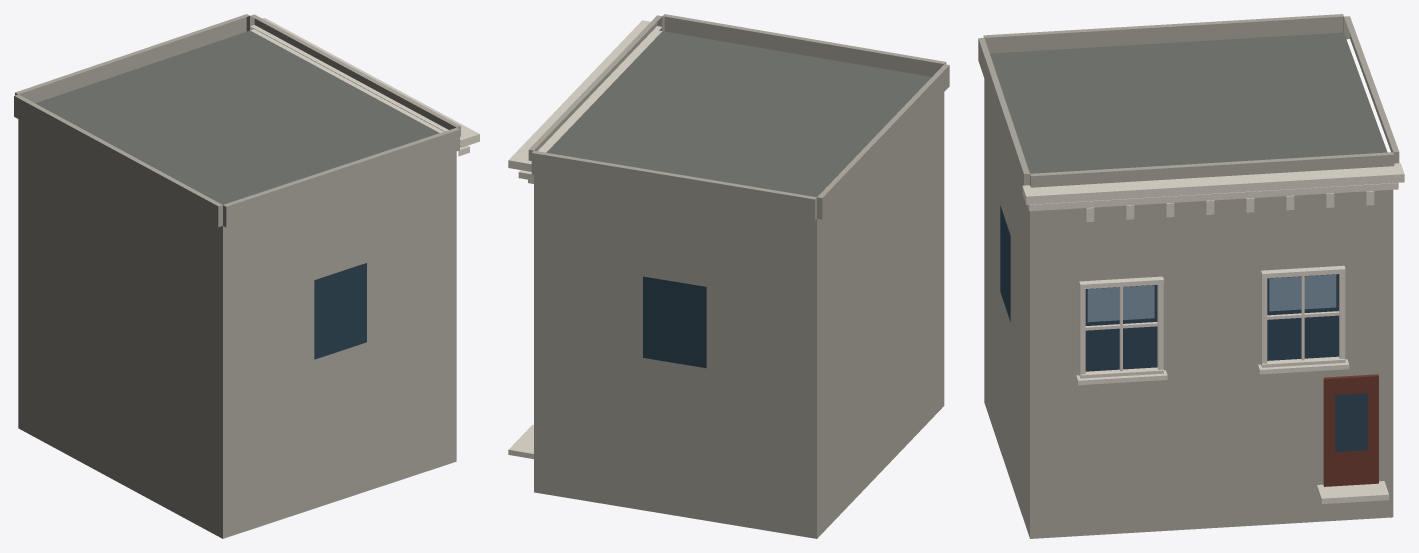
3 views of the same model, side by side, from view 1: azimuth 30°, elevation 25°; view 2: azimuth 150°, elevation 25°; view 3: azimuth 270°, elevation 25° (orthographic). The views are drawn at different scales.
Parts seen in each view (by area): view 1: Footprint 0 / surface 2, Footprint 0 / surface 1, Facade bay volumes, Inset glazing, Cornices and window frames; view 2: Footprint 0 / surface 2, Footprint 0 / surface 1, Facade bay volumes, Inset glazing, Cornices and window frames; view 3: Footprint 0 / surface 2, Footprint 0 / surface 1, Cornices and window frames, Facade bay volumes, Inset glazing, Sky reflection panels, Storefronts and doors.
Boxes of the visible parts, x1,y1,x2,y2 form: Footprint 0 / surface 2: [18, 119, 456, 538]; Footprint 0 / surface 1: [35, 30, 439, 204]; Facade bay volumes: [14, 14, 460, 227]; Inset glazing: [314, 263, 366, 359]; Cornices and window frames: [250, 18, 479, 156]; Footprint 0 / surface 2: [534, 92, 944, 538]; Footprint 0 / surface 1: [546, 31, 931, 197]; Facade bay volumes: [528, 14, 949, 220]; Inset glazing: [643, 276, 706, 368]; Cornices and window frames: [508, 20, 662, 458]; Footprint 0 / surface 2: [984, 79, 1393, 538]; Footprint 0 / surface 1: [990, 32, 1387, 173]; Cornices and window frames: [1022, 163, 1404, 504]; Facade bay volumes: [978, 14, 1399, 191]; Inset glazing: [1000, 205, 1367, 451]; Sky reflection panels: [1087, 274, 1336, 322]; Storefronts and doors: [1323, 374, 1378, 486].
Bounding box in the file's own units: 8.02 × 7.98 × 8.44.
